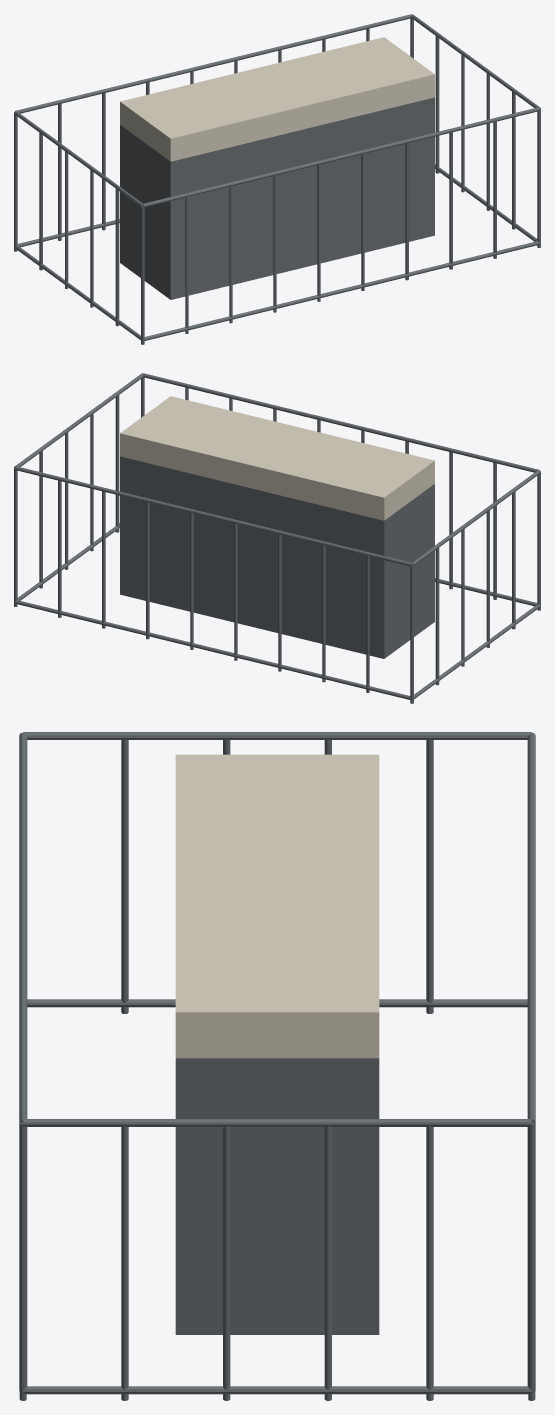
The picture shows the model from 3 angles, top to bottom: view 1: azimuth 30°, elevation 25°; view 2: azimuth 150°, elevation 25°; view 3: azimuth 270°, elevation 25°; orthographic projection. The views are drawn at different scales.
Visible parts, largest first — view 1: buildings_s_-7_-3_Dark_Metal, buildings_s_-7_-3_Warm_Limestone; view 2: buildings_s_-7_-3_Dark_Metal, buildings_s_-7_-3_Warm_Limestone; view 3: buildings_s_-7_-3_Dark_Metal, buildings_s_-7_-3_Warm_Limestone.
Boxes of the visible parts, x1,y1,x2,y2 form: buildings_s_-7_-3_Dark_Metal: [14, 14, 540, 344]; buildings_s_-7_-3_Warm_Limestone: [120, 37, 434, 161]; buildings_s_-7_-3_Dark_Metal: [14, 373, 540, 703]; buildings_s_-7_-3_Warm_Limestone: [120, 396, 434, 520]; buildings_s_-7_-3_Dark_Metal: [19, 732, 535, 1400]; buildings_s_-7_-3_Warm_Limestone: [175, 754, 379, 1058].
Bounding box in the file's own units: 9.08 × 3.5 × 5.08.
